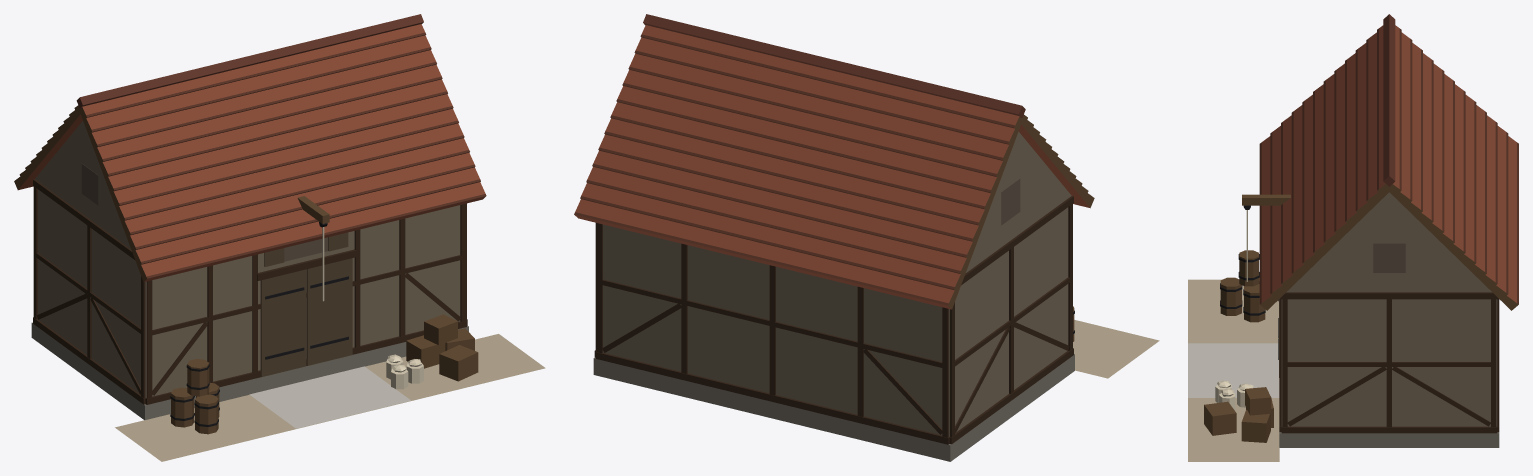
File: wasser_schuppen.glb
3 views of the same model, side by side, from view 1: azimuth 30°, elevation 25°; view 2: azimuth 150°, elevation 25°; view 3: azimuth 270°, elevation 25° (orthographic). The views are drawn at different scales.
Parts seen in each view (by area): view 1: Haus; view 2: Haus; view 3: Haus.
Part boxes in pixels (x1,y1,x2,y2): Haus: [14, 14, 545, 461]; Haus: [574, 14, 1159, 461]; Haus: [1188, 14, 1518, 461].
Bounding box in the file's own units: 12 × 8.48 × 9.2.
